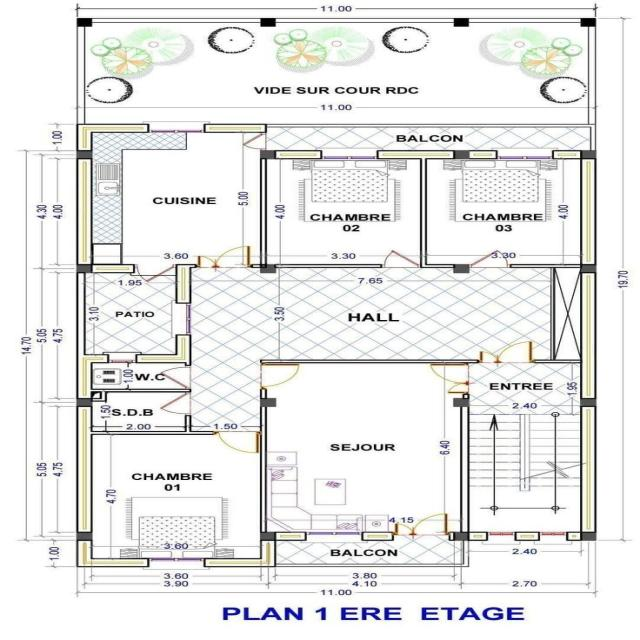column: (253, 15, 281, 30), (70, 148, 100, 162), (71, 530, 99, 544), (69, 16, 96, 30), (253, 395, 280, 409), (448, 396, 475, 409), (73, 262, 98, 276), (72, 396, 97, 410), (575, 530, 600, 544), (574, 396, 600, 409), (450, 530, 476, 543), (576, 148, 600, 162), (450, 261, 474, 275), (449, 148, 474, 161), (577, 16, 601, 29), (577, 262, 601, 275), (254, 530, 280, 542), (450, 16, 473, 29), (257, 148, 278, 161), (256, 262, 277, 275)
